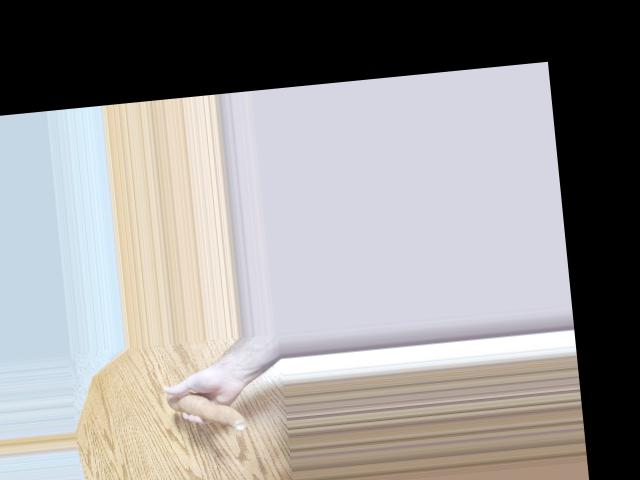sweet_potato: (169, 387, 250, 436)
